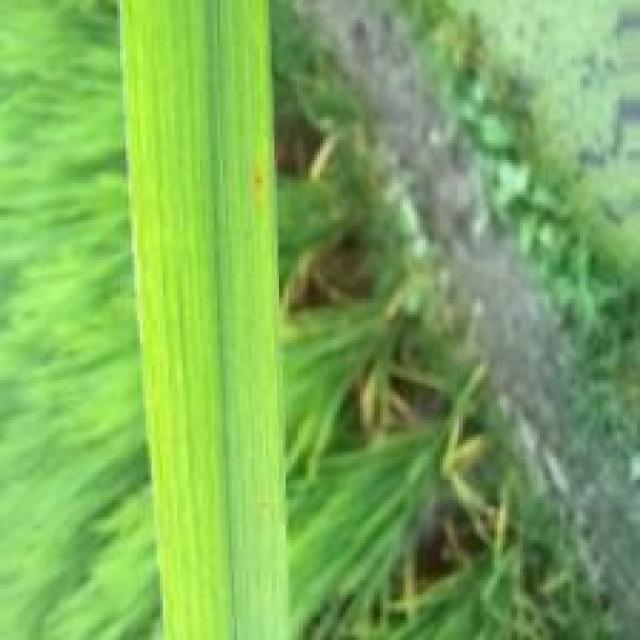HealthyLeaf: (183, 1, 245, 639)
